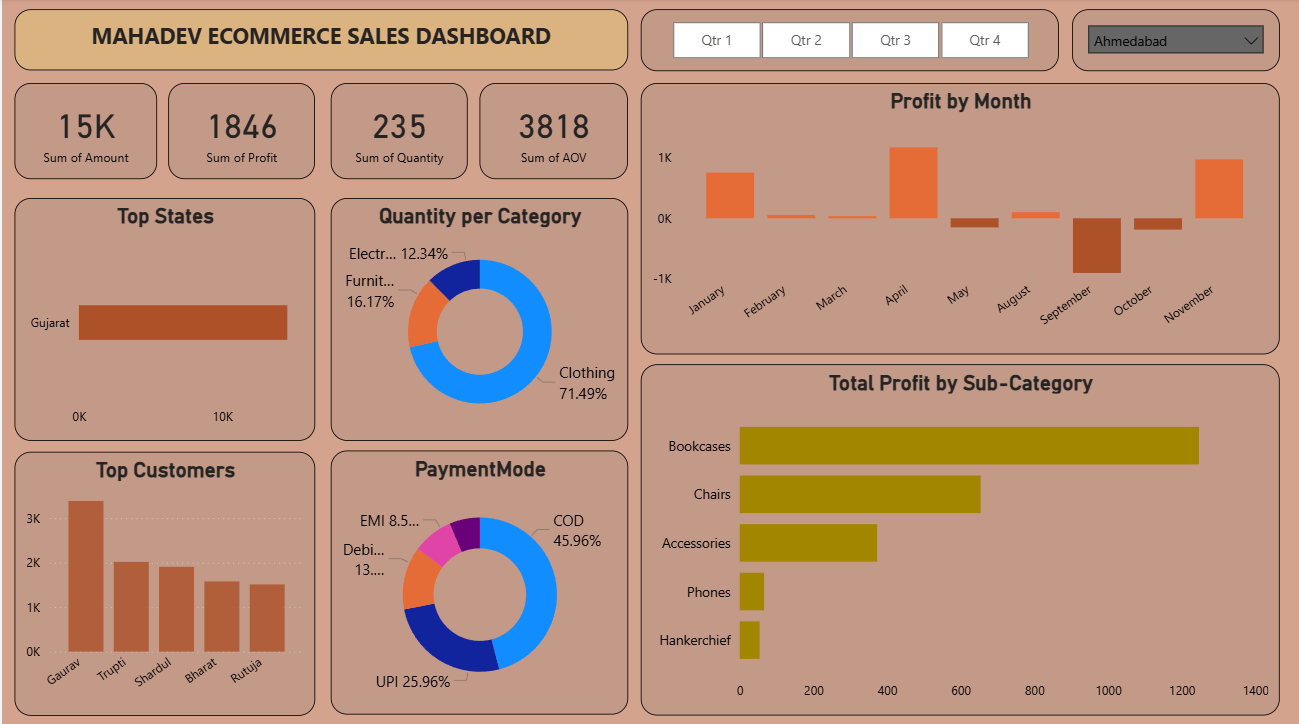

Layout of this report page (visuals, bound fields, positions):
{"tool":"powerbi","page":{"name":"Page 1","canvas":[1280,720],"ordinal":0},"visuals":[{"type":"textbox","box":[12.3,11,602.4,60.4],"z":0},{"type":"columnChart","title":"Profit by Month","fields":{"Y":["Sum(Details.Profit)"],"Category":["Orders.Order Date.Variation.Date Hierarchy.Month"]},"box":[627.1,83.7,627.1,266.2],"z":1000},{"type":"clusteredBarChart","title":"Total Profit by Sub-Category","fields":{"Category":["Details.Sub-Category"],"Y":["Sum(Details.Profit)"]},"box":[627.1,359.5,627.1,344.4],"z":2000},{"type":"pieChart","title":"Quantity per Category","fields":{"Category":["Details.Category"],"Y":["Sum(Details.Quantity)"]},"box":[322.5,196.2,292.3,238.8],"z":3000},{"type":"pieChart","title":" PaymentMode","fields":{"Y":["Sum(Details.Quantity)"],"Category":["Details.PaymentMode"]},"box":[322.5,444.6,292.3,259.3],"z":4000},{"type":"card","fields":{"Values":["Sum(Details.Profit)"]},"box":[163.3,83.7,144.1,94.7],"z":5000},{"type":"card","fields":{"Values":["Sum(Details.Amount)"]},"box":[12.3,83.7,140,94.7],"z":6000},{"type":"card","fields":{"Values":["Sum(Details.Quantity)"]},"box":[322.5,83.7,134.5,94.7],"z":7000},{"type":"card","fields":{"Values":["Sum(Details.AOV)"]},"box":[469.3,83.7,145.5,94.7],"z":8000},{"type":"barChart","title":"Top States","fields":{"Category":["Orders.State"],"Y":["Sum(Details.Amount)"]},"box":[12.3,196.2,295,238.8],"z":9000},{"type":"columnChart","title":" Top Customers","fields":{"Category":["Orders.CustomerName"],"Y":["Sum(Details.Amount)"]},"box":[12,445,295,259],"z":10000},{"type":"slicer","fields":{"Values":["Orders.Order Date.Variation.Date Hierarchy.Quarter"]},"box":[627,11.2,410.5,61],"z":11000},{"type":"slicer","fields":{"Values":["Orders.City"]},"box":[1049.9,11.2,204,61],"z":12000}]}

Visuals, with their boxes in screenshot pixels (x1, y1, x2, y2), scaled from the page's 1280x720 canvas onto the 1299x724 screenshot:
textbox: l=12, t=11, r=624, b=72
"Profit by Month" columnChart: l=636, t=84, r=1273, b=352
"Total Profit by Sub-Category" clusteredBarChart: l=636, t=361, r=1273, b=708
"Quantity per Category" pieChart: l=327, t=197, r=624, b=437
" PaymentMode" pieChart: l=327, t=447, r=624, b=708
card - Sum(Details.Profit): l=166, t=84, r=312, b=179
card - Sum(Details.Amount): l=12, t=84, r=155, b=179
card - Sum(Details.Quantity): l=327, t=84, r=464, b=179
card - Sum(Details.AOV): l=476, t=84, r=624, b=179
"Top States" barChart: l=12, t=197, r=312, b=437
" Top Customers" columnChart: l=12, t=447, r=312, b=708
slicer - Orders.Order Date.Variation.Date Hierarchy.Quarter: l=636, t=11, r=1053, b=73
slicer - Orders.City: l=1065, t=11, r=1273, b=73
